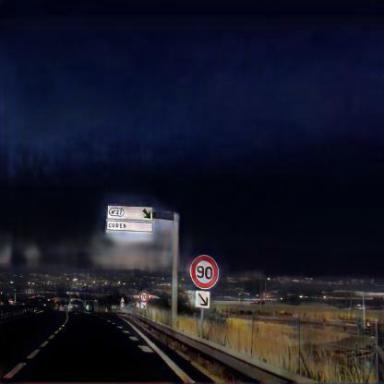Speed_limit_90: (190, 256, 219, 290)
